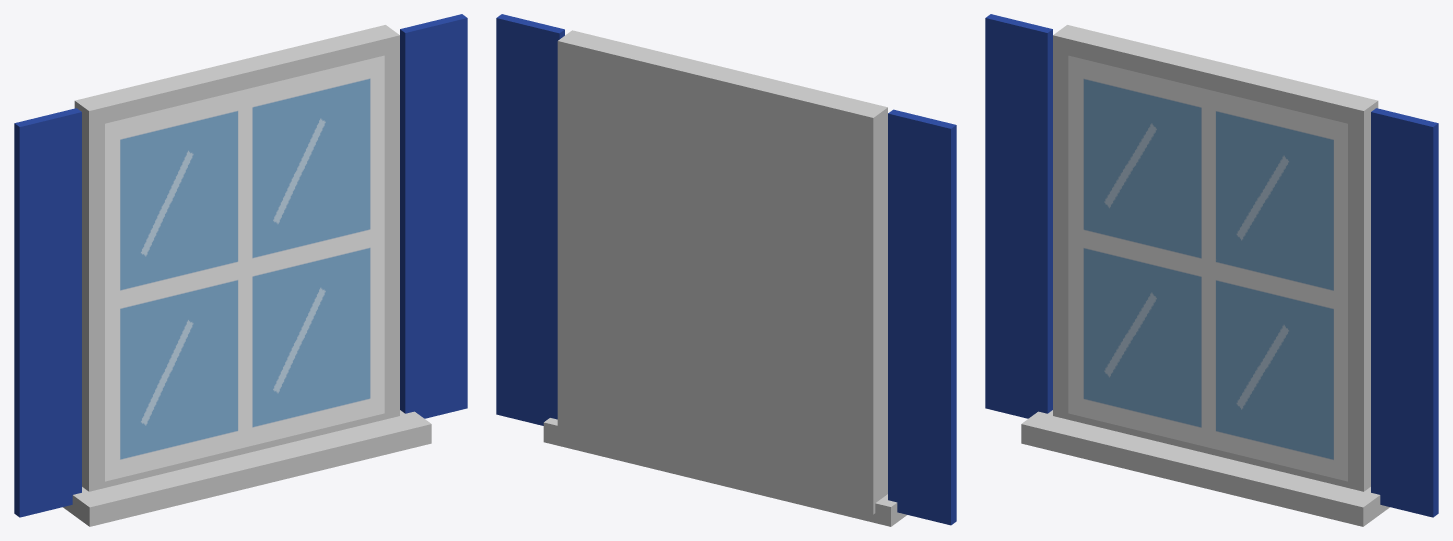
The model's file is window.glb.
The picture shows the model from 3 angles, left to right: view 1: azimuth 30°, elevation 25°; view 2: azimuth 150°, elevation 25°; view 3: azimuth 330°, elevation 25°; orthographic projection.
Parts seen in each view (by area): view 1: window; view 2: window; view 3: window.
Part boxes in pixels (<box>): window: <box>14,14,467,526</box>; window: <box>496,14,956,526</box>; window: <box>985,14,1438,526</box>.
Bounding box in the file's own units: 1.44 × 1.23 × 0.17.
Materials: 3 (1 with a texture image).
